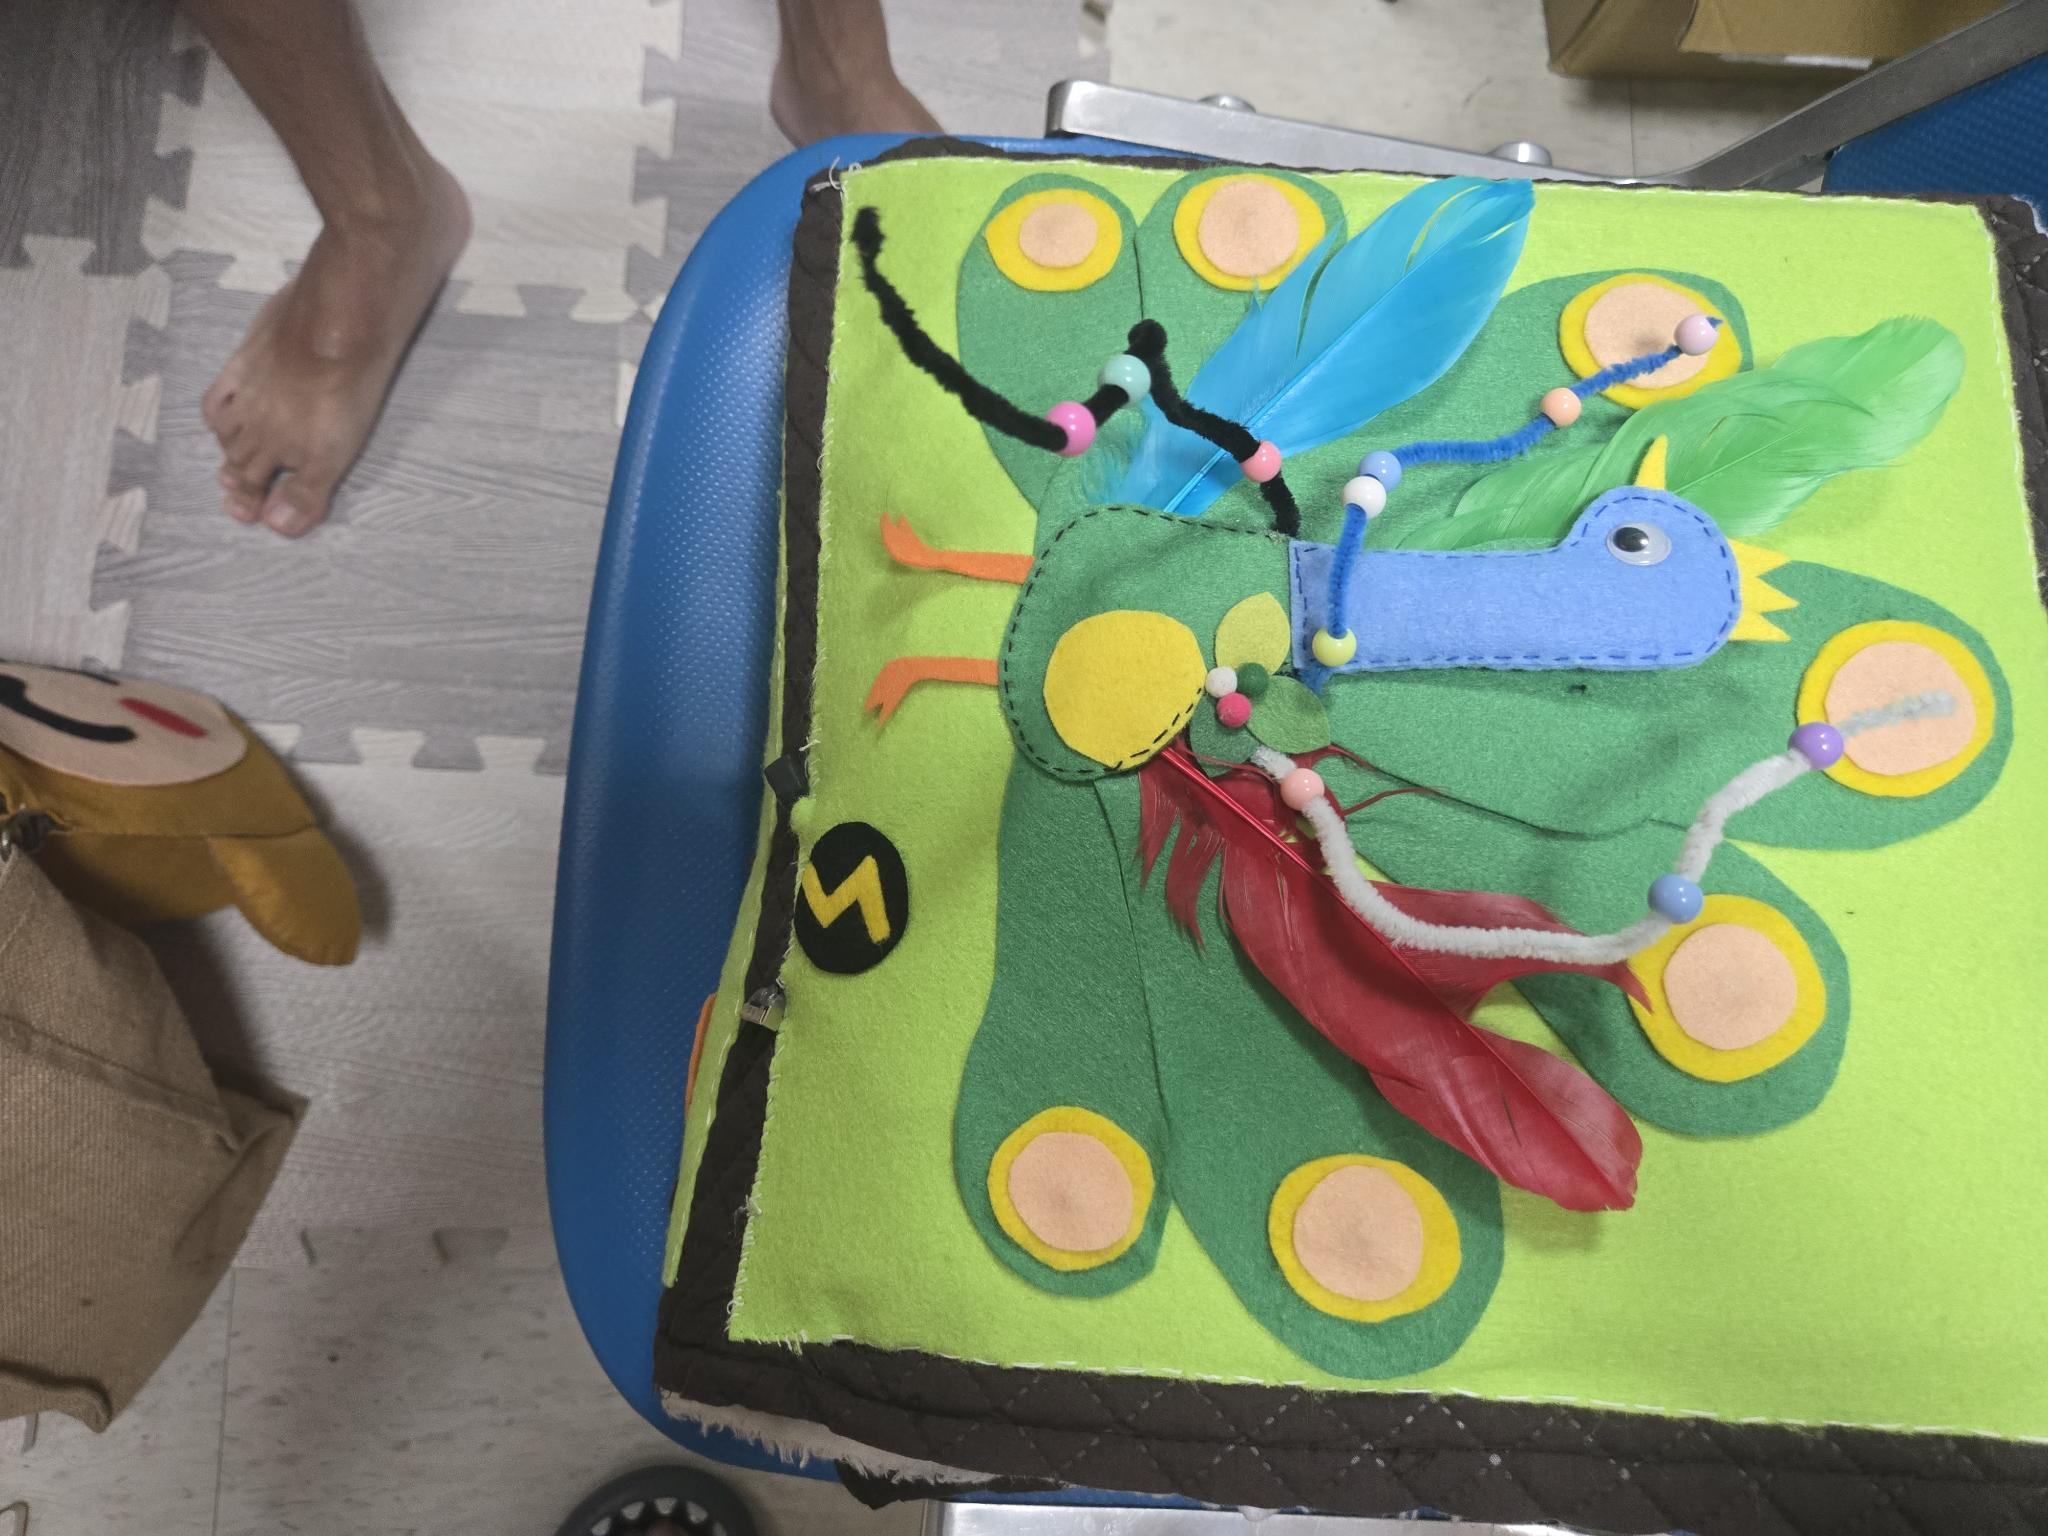bead: (1032, 390, 1101, 468), (1221, 428, 1290, 495), (1095, 344, 1161, 415), (1787, 707, 1846, 779), (1646, 863, 1706, 934), (1661, 313, 1729, 368), (1268, 760, 1334, 815), (1534, 382, 1596, 439), (1314, 618, 1364, 689), (1340, 470, 1387, 520), (1367, 445, 1408, 486)
